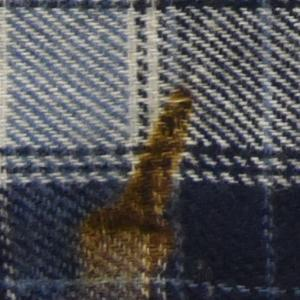Damage: (85, 91, 197, 253)
Oil Stain: (78, 83, 200, 300)
